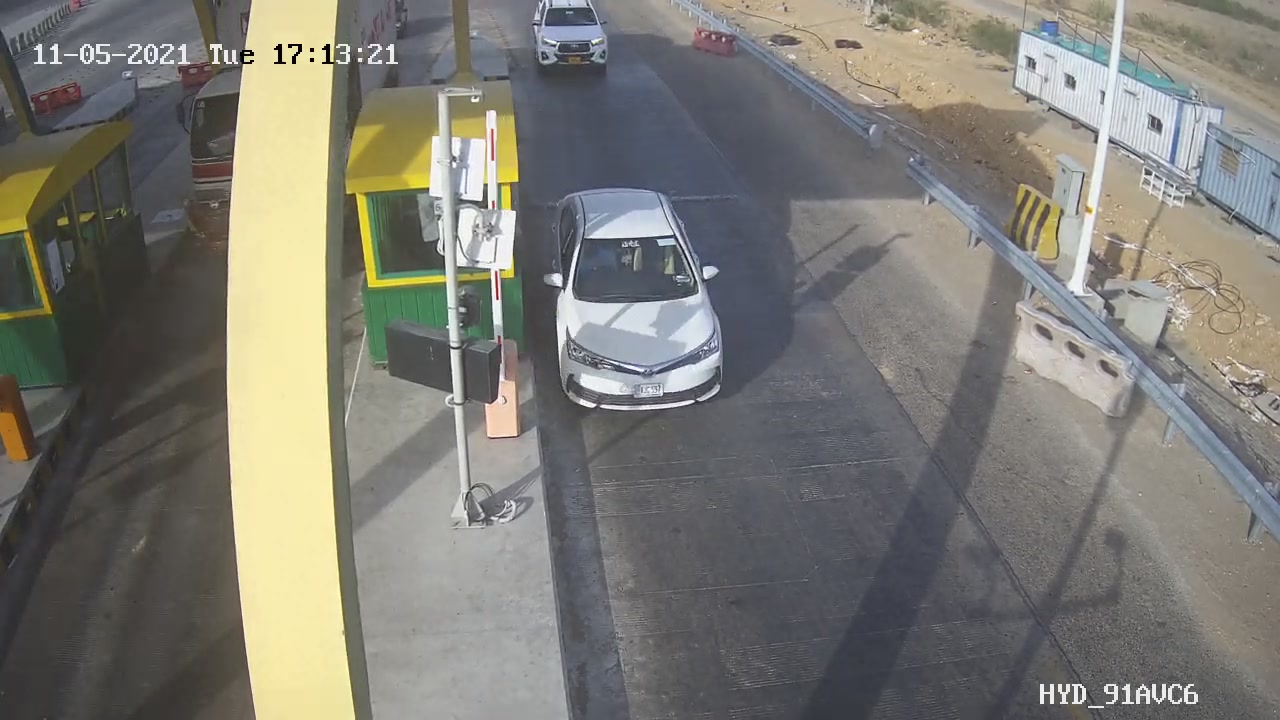F1: (524, 173, 744, 431)
